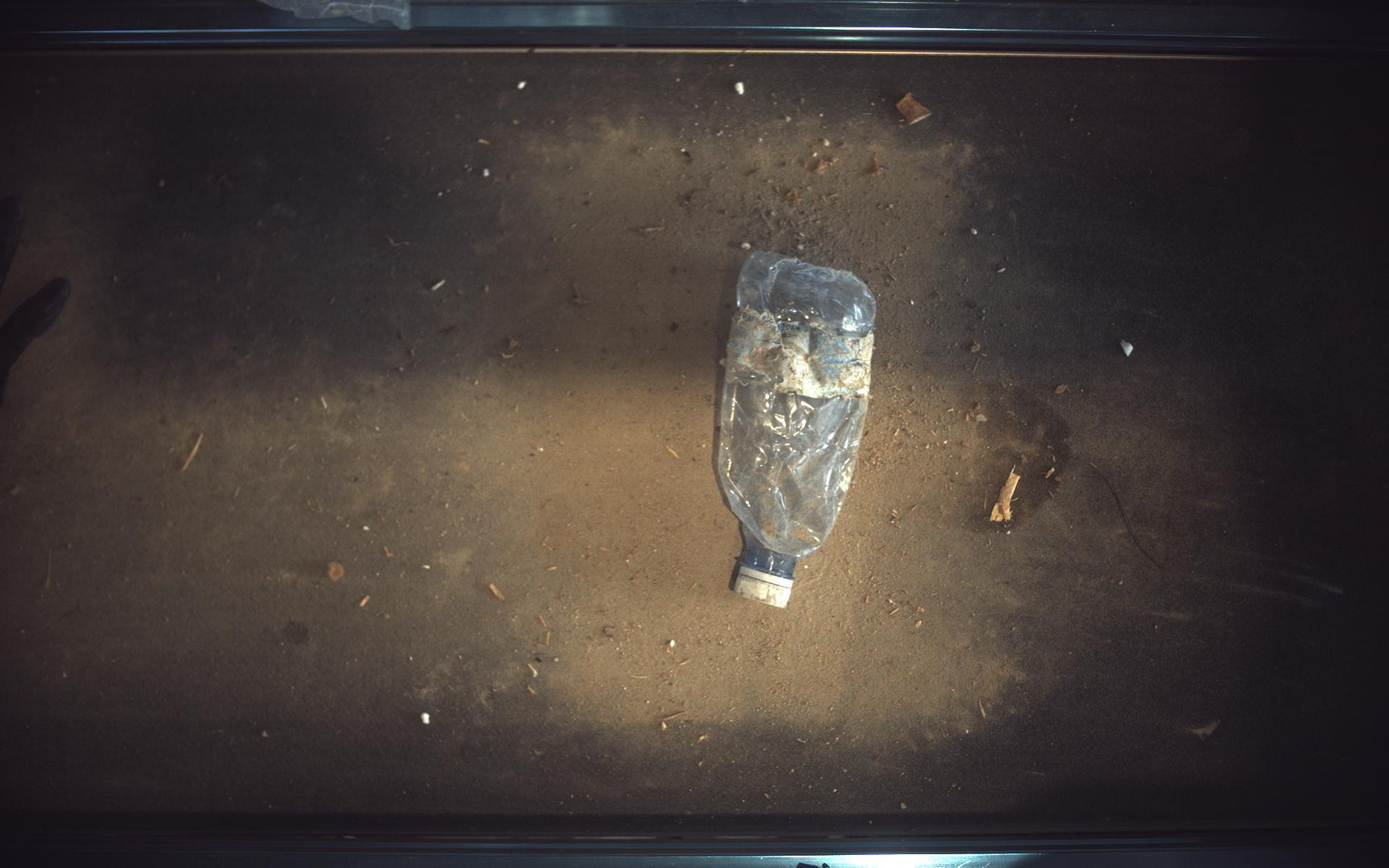general_w: (718, 251, 878, 608)
